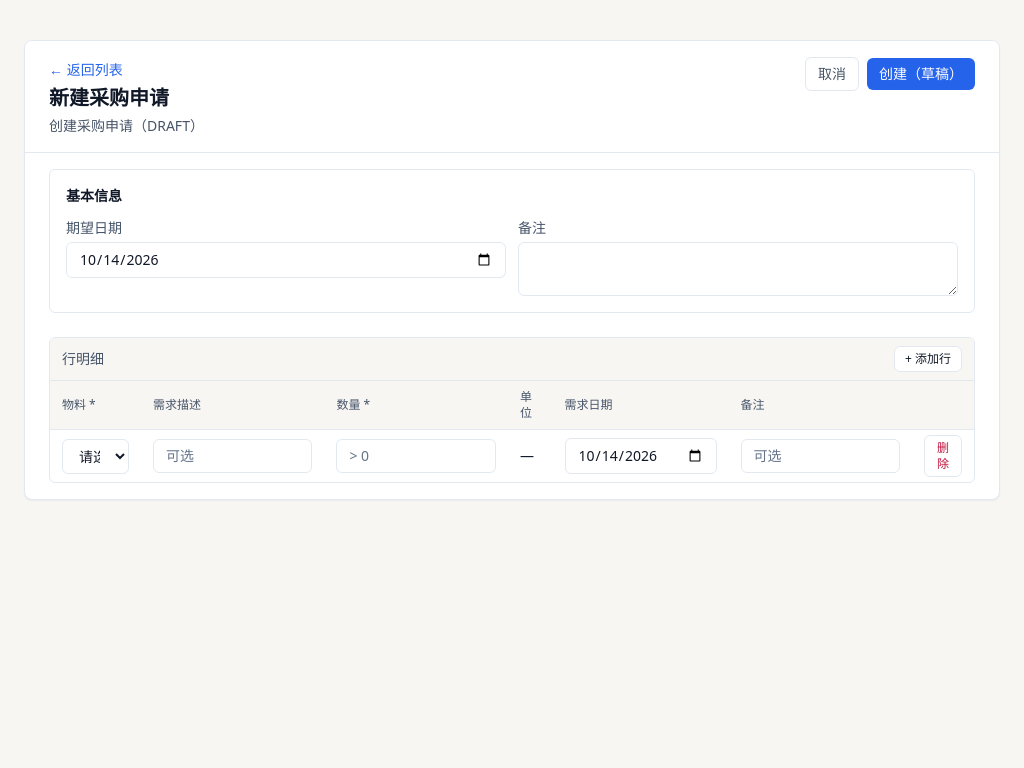
Test: Purchase Requisition Create (ui-08) — Workspace 表单 › 空行提交 → 顶部 ErrorPanel 校验错误（禁止 window.confirm 离开逻辑）
expect the heading "新建采购申请" is shown: met, box [49,84,169,111]
Click the button "创建（草稿）".
click(921, 74)  # box [867,58,975,90]
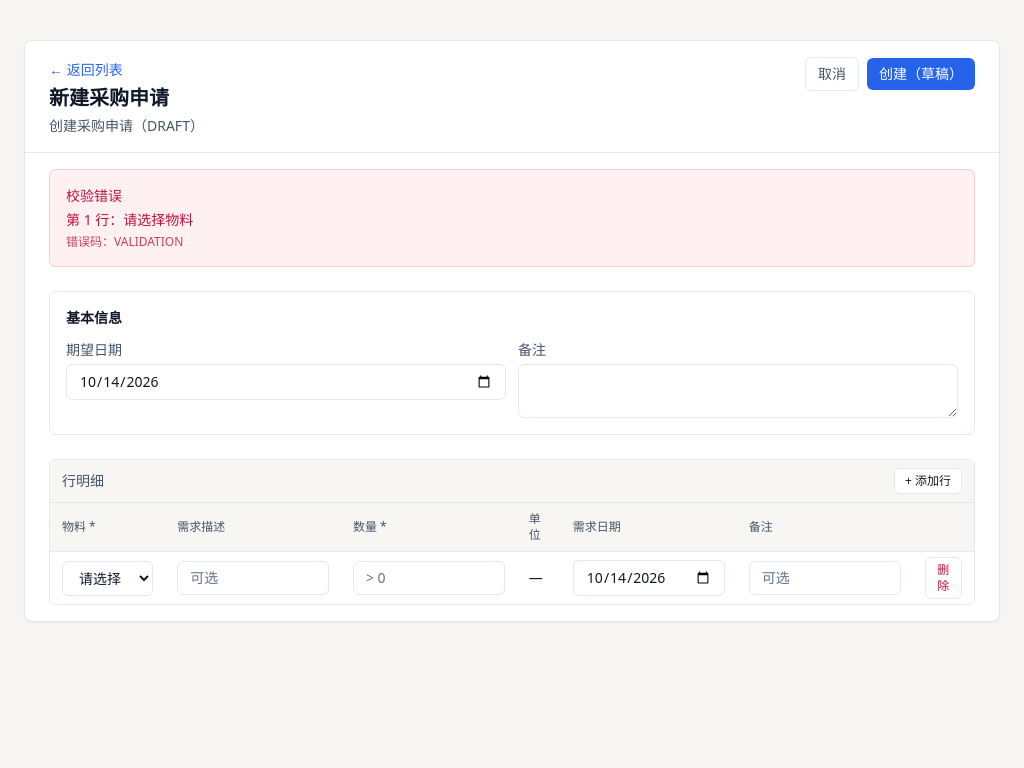
expect the message "校验错误 第 1 行：请选择物料 错误码：VALIDATION" is shown: met, box [49,169,975,267]
expect the text "第 1 行：请选择物料" is shown: met, box [66,210,193,229]
